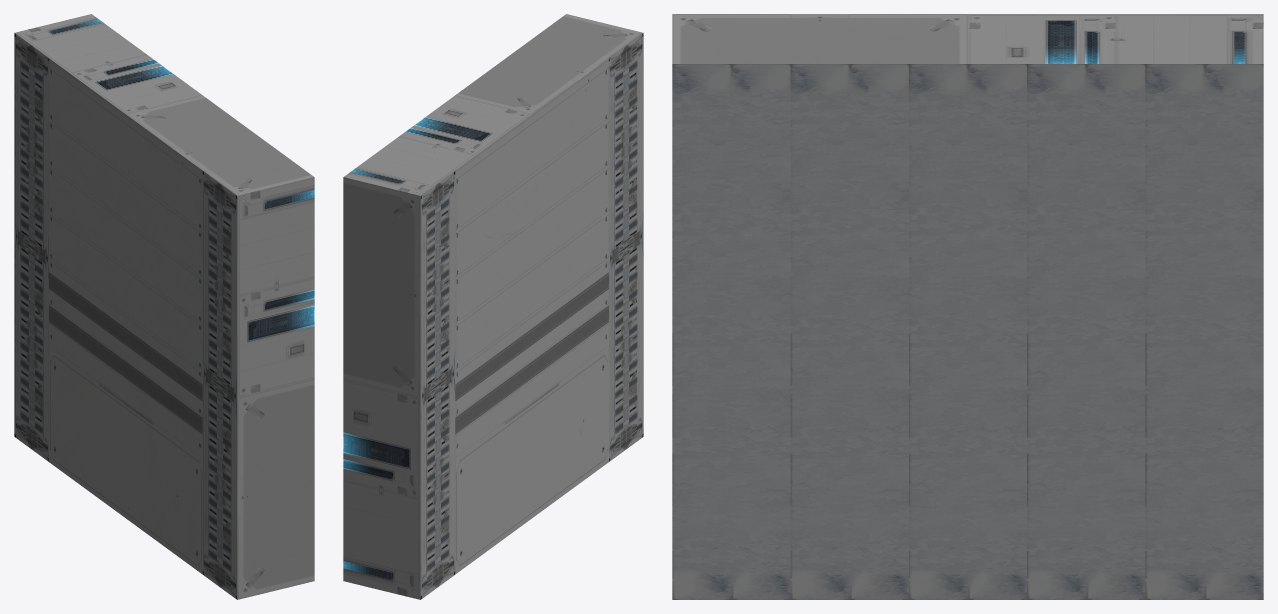
File: SM_WallS12b.fbx
3 views of the same model, side by side, from view 1: azimuth 30°, elevation 25°; view 2: azimuth 150°, elevation 25°; view 3: azimuth 270°, elevation 25° (orthographic). The views are drawn at different scales.
Parts seen in each view (by area): view 1: SM_WallS12b_LOD0; view 2: SM_WallS12b_LOD0; view 3: SM_WallS12b_LOD0.
Boxes of the visible parts, x1=… form: SM_WallS12b_LOD0: x1=14, y1=14, x2=314, y2=599; SM_WallS12b_LOD0: x1=343, y1=14, x2=643, y2=599; SM_WallS12b_LOD0: x1=672, y1=14, x2=1263, y2=599.
Bounding box in the file's own units: 80 × 400 × 400.
Materials: 3 (3 with a texture image).
